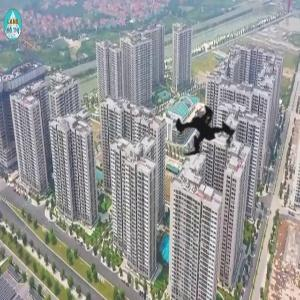drone: (122, 52, 289, 219)
